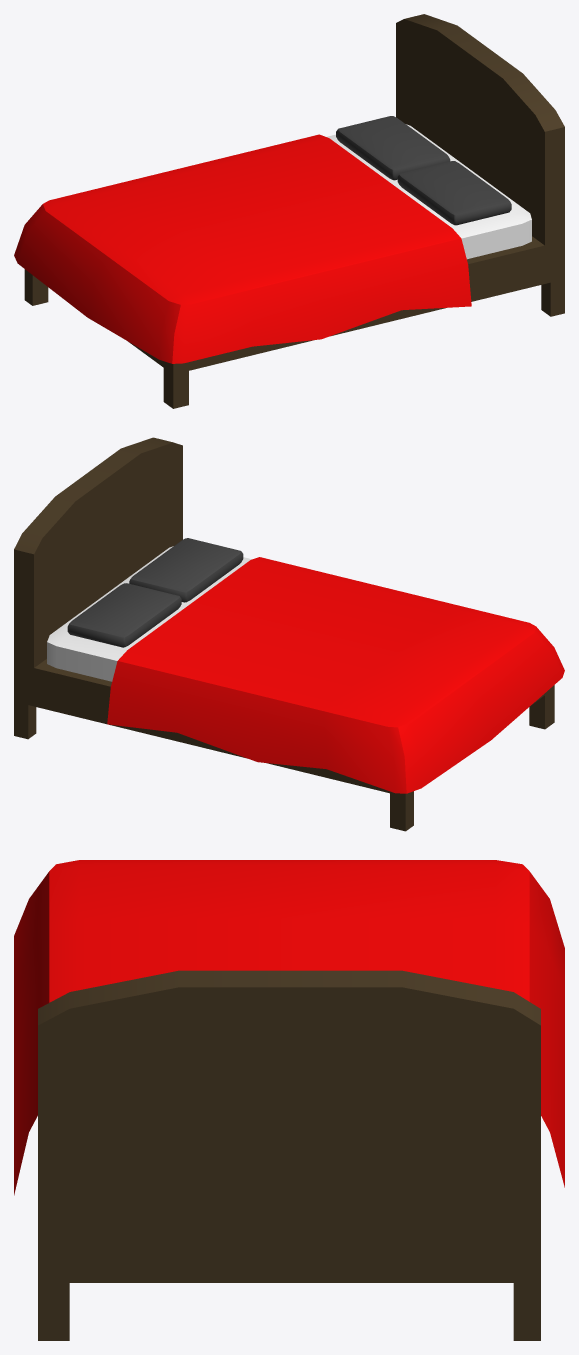
File: Cama.fbx
3 renders of one model, top to bottom at view 1: azimuth 30°, elevation 25°; view 2: azimuth 150°, elevation 25°; view 3: azimuth 270°, elevation 25°, orthographic. The views are drawn at different scales.
Visible parts, largest first — view 1: Bed; view 2: Bed; view 3: Bed.
Part boxes in pixels (<box>): Bed: <box>14,14,564,408</box>; Bed: <box>14,437,564,831</box>; Bed: <box>14,860,564,1340</box>.
Bounding box in the file's own units: 145 × 72.14 × 102.
